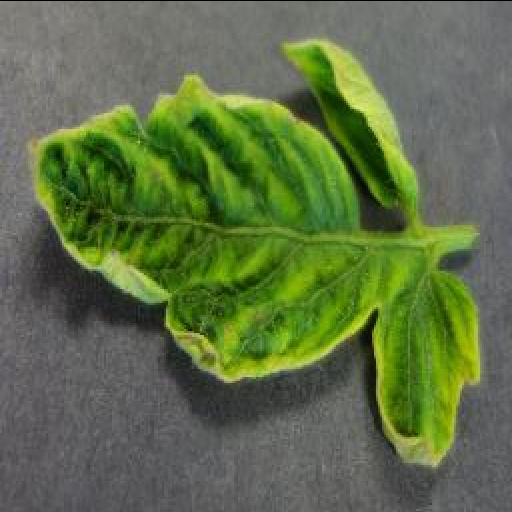disease_tomato: (22, 40, 484, 470)
